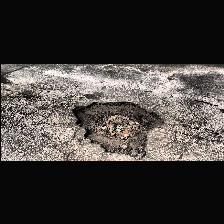pothole: (71, 98, 165, 158)
